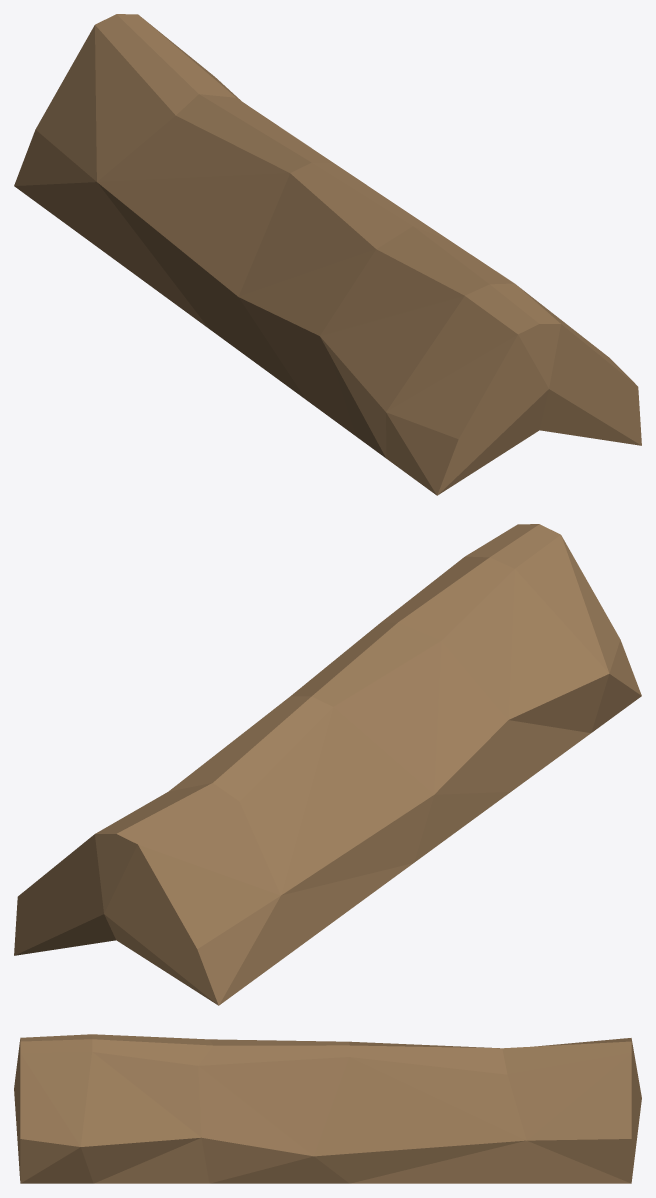
The model's file is kingdom_SM_Bld_House_Roof_Thatch_Peak_Cap_01.gltf.
3 renders of one model, top to bottom at view 1: azimuth 30°, elevation 25°; view 2: azimuth 150°, elevation 25°; view 3: azimuth 270°, elevation 25°, orthographic. The views are drawn at different scales.
Parts seen in each view (by area): view 1: SM_Bld_House_Roof_Thatch_Peak_Cap_01; view 2: SM_Bld_House_Roof_Thatch_Peak_Cap_01; view 3: SM_Bld_House_Roof_Thatch_Peak_Cap_01.
Part boxes in pixels (box(x1,y1,x2,y2)): SM_Bld_House_Roof_Thatch_Peak_Cap_01: box(14, 14, 641, 495); SM_Bld_House_Roof_Thatch_Peak_Cap_01: box(14, 524, 641, 1005); SM_Bld_House_Roof_Thatch_Peak_Cap_01: box(14, 1034, 641, 1183).
Size of the model in its own units: 0.7623 by 0.4893 by 2.57.
1 material, 1 textured.
